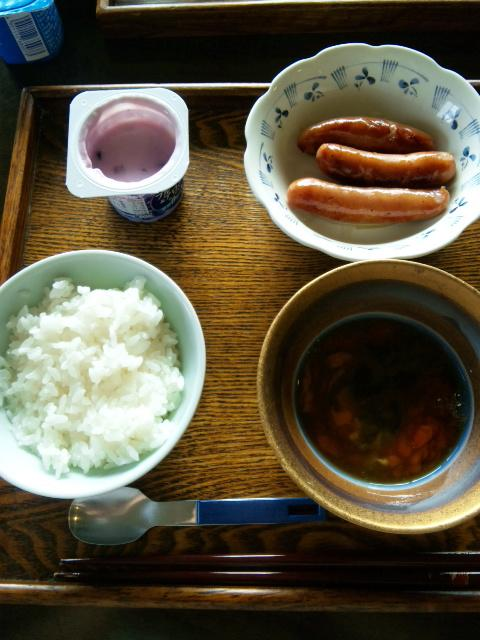plate: (0, 250, 205, 498)
rice: (0, 280, 184, 478)
